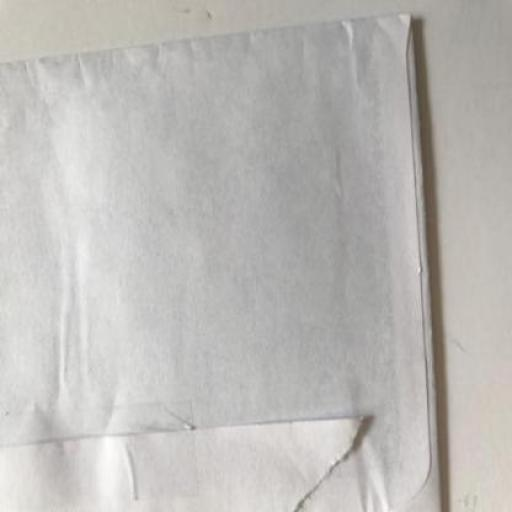paper: (0, 12, 441, 511)
